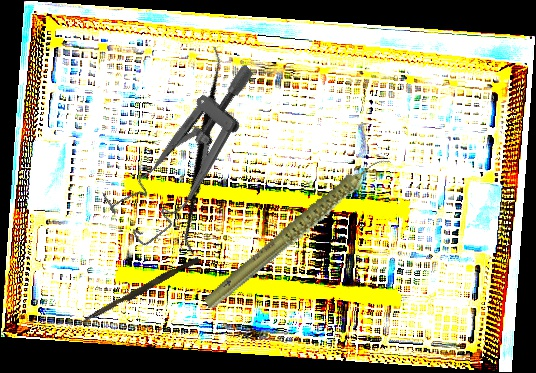Handpiece: (182, 153, 415, 312)
Pusher: (77, 253, 201, 330)
Spatula Surgical: (119, 45, 290, 256)
Speculum: (89, 62, 297, 250)
